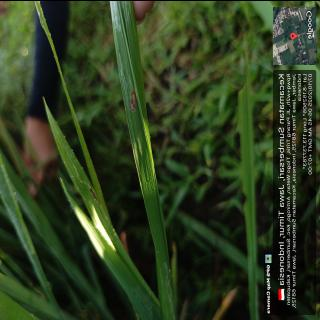Blast: (128, 84, 140, 114)
